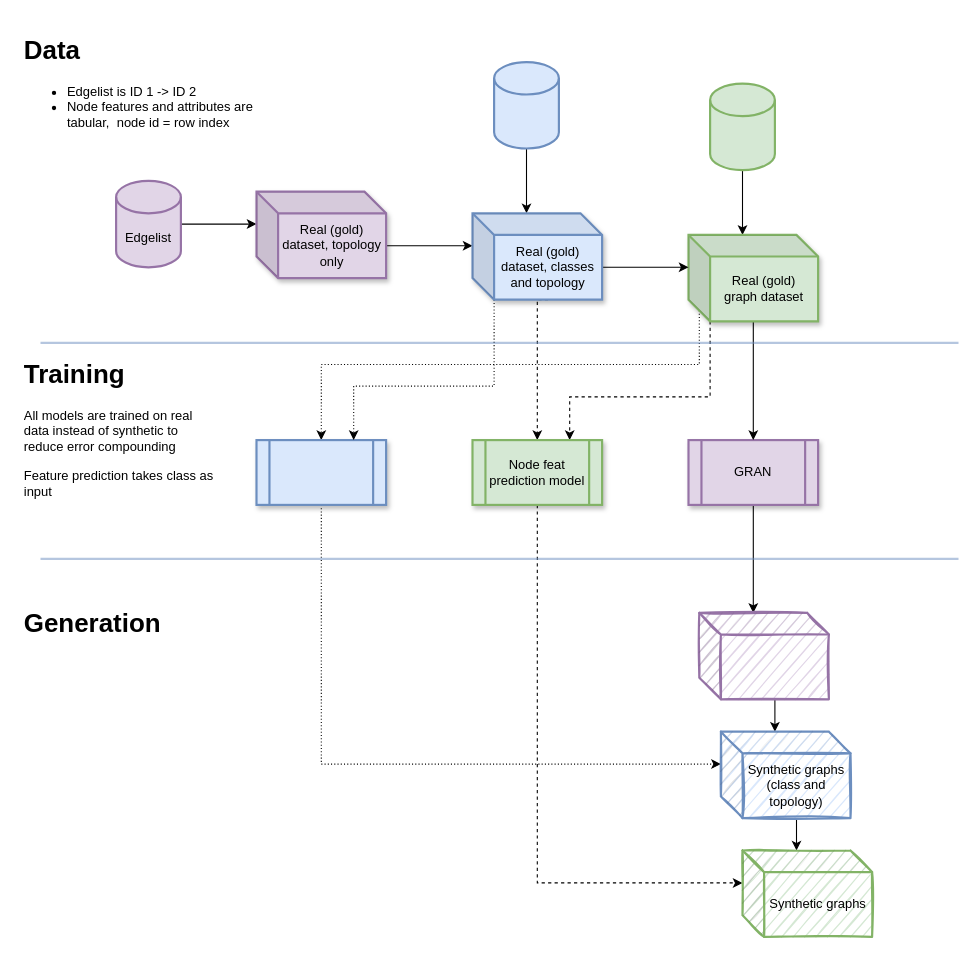
This 978x956 diagram has some shape labels left out. The centre of each missing label's shape, as x and y in pixels:
Node class: point 525,104
Node class prediction model: point 322,473
Node feat: point 741,126
Synthetic graphs (topology only): point 763,655
